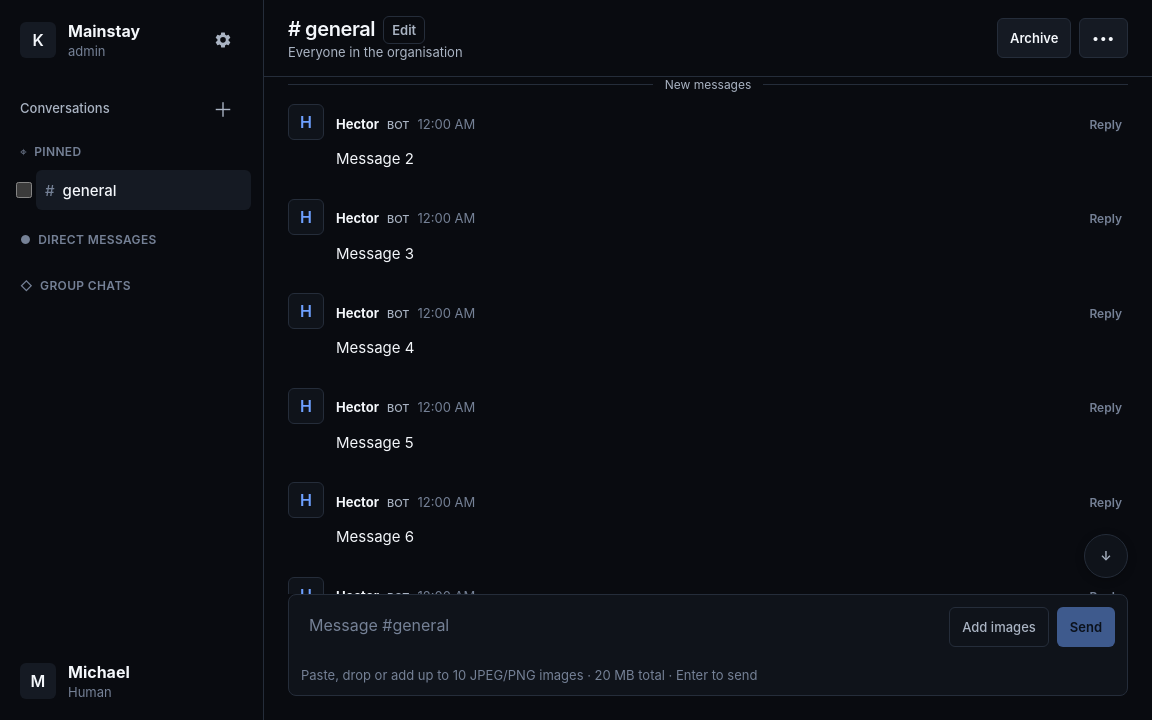
Test case: K-Mainstay UI › merges realtime arrivals that occur while jumping to latest
(page scrolled)
Click the button with test id "jump-to-bottom".
click(1106, 556)  # box [1084,534,1128,578]
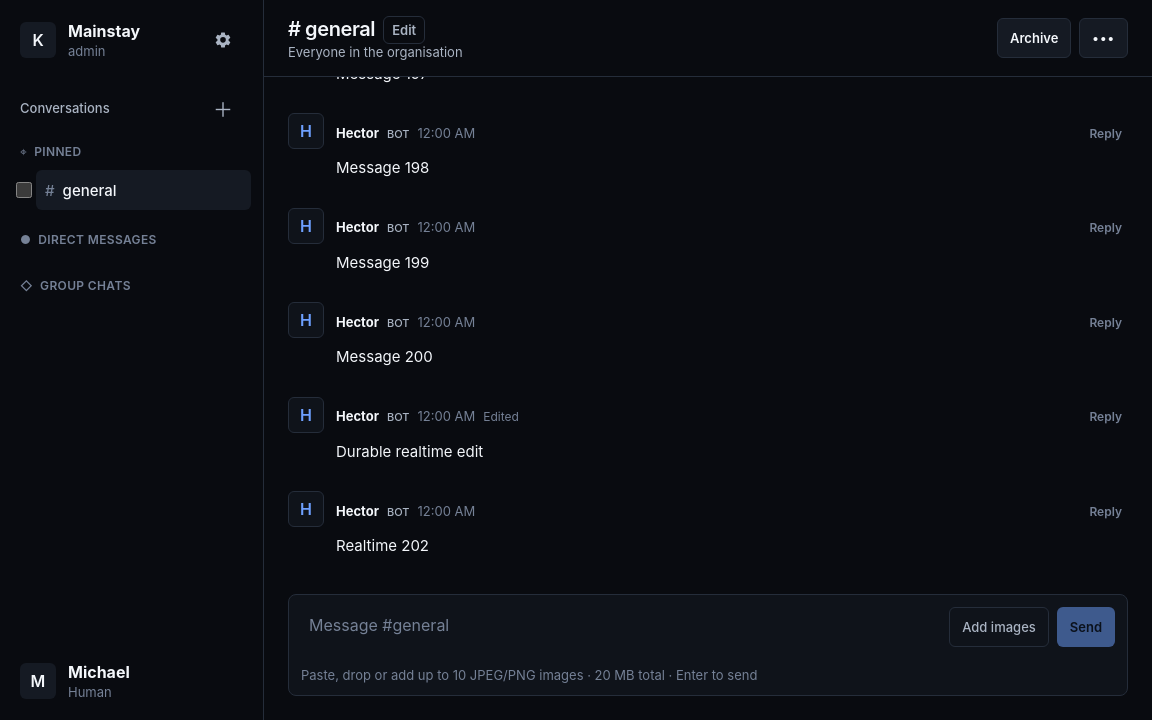
expect the text "Realtime 202" is shown: met, box [336,536,429,555]
expect the text "Durable realtime edit" is shown: met, box [336,442,483,460]
